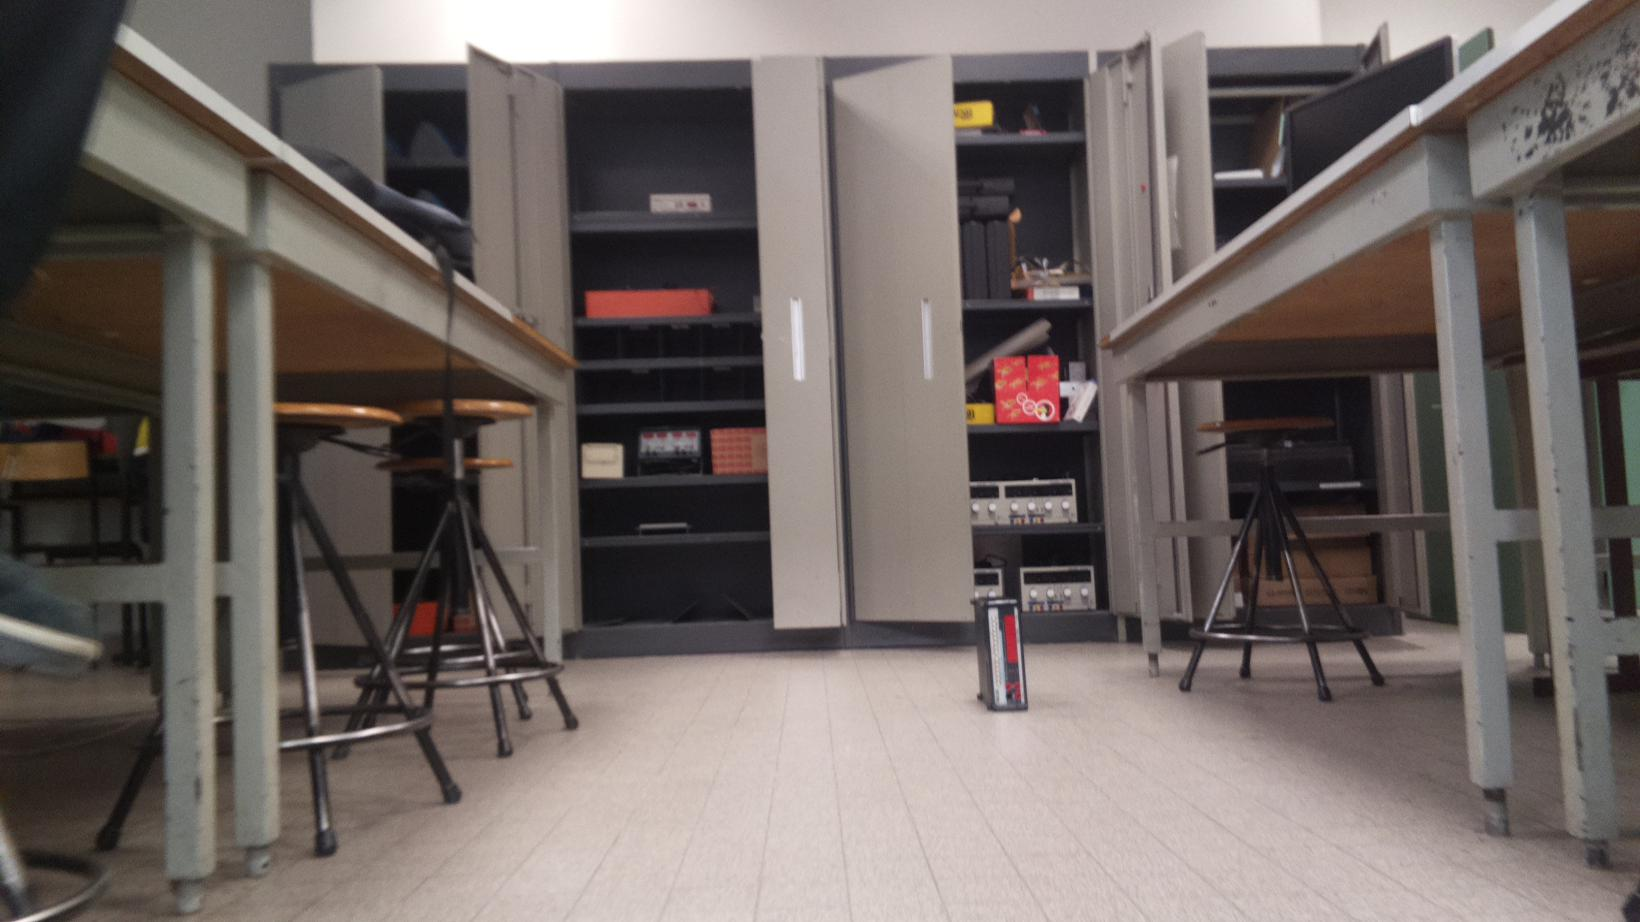medium: (971, 596, 1030, 713)
